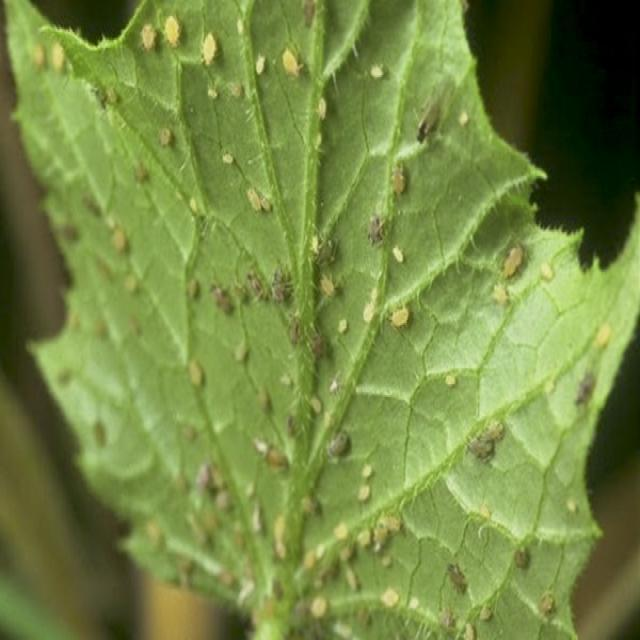Aphids: (193, 238, 377, 388), (183, 455, 304, 553), (136, 8, 244, 86), (327, 501, 422, 576), (376, 92, 419, 216), (494, 234, 532, 340), (314, 418, 370, 474), (464, 412, 514, 474), (236, 165, 282, 228), (434, 553, 484, 603), (153, 109, 179, 180), (572, 372, 602, 432), (388, 292, 418, 336), (282, 27, 300, 92), (366, 57, 386, 91), (314, 92, 333, 116)
